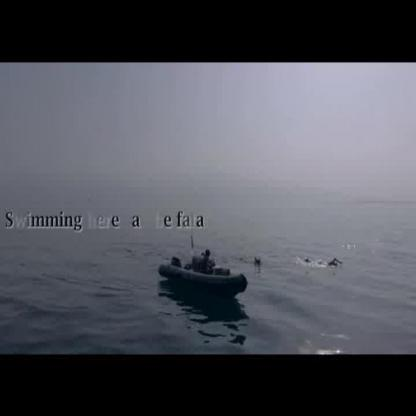Boat: (154, 246, 248, 303)
